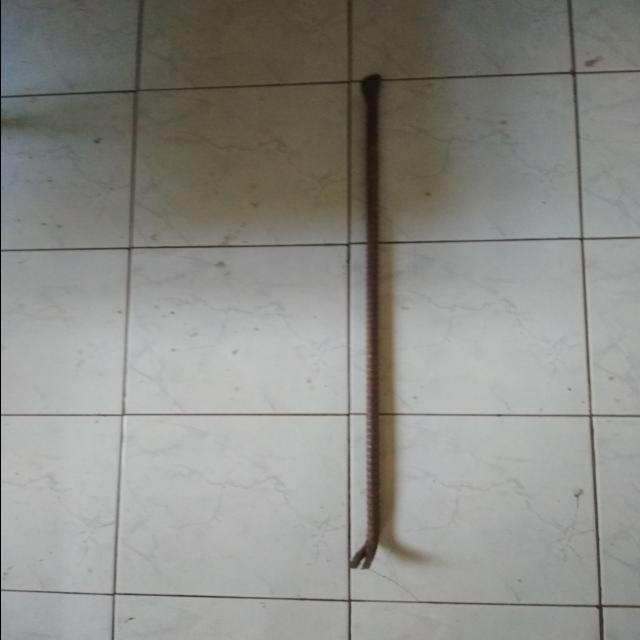Linggis: (333, 72, 395, 570)
